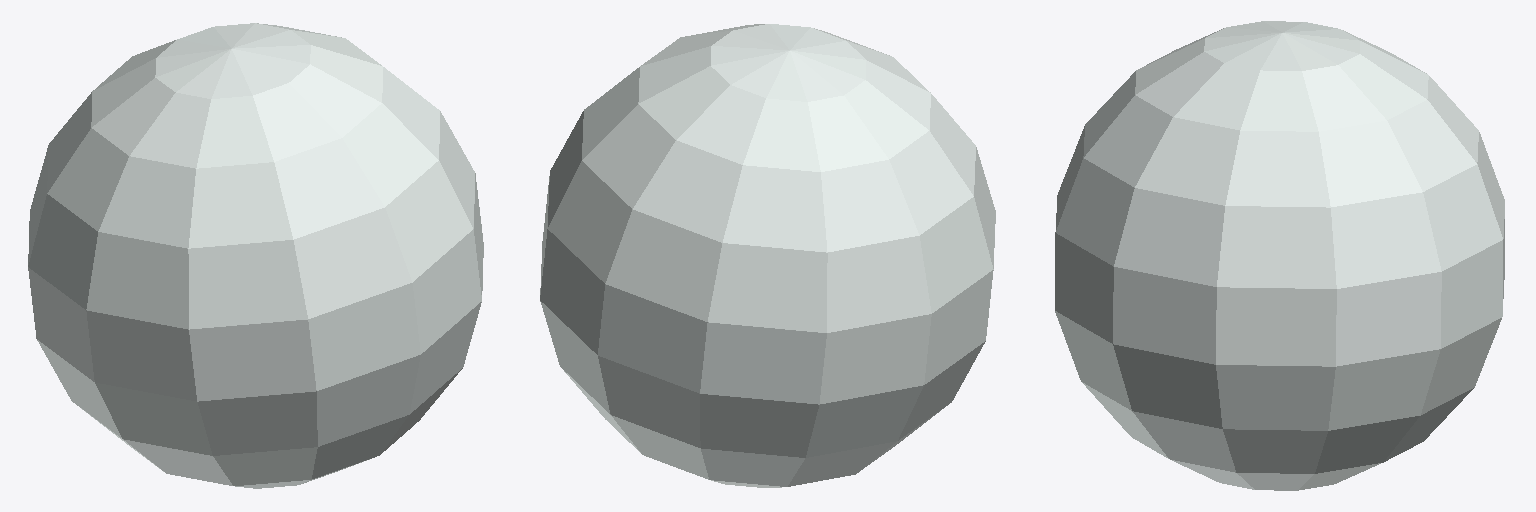
The model's file is Gem Ball.obj.
3 views of the same model, side by side, from view 1: azimuth 30°, elevation 25°; view 2: azimuth 150°, elevation 25°; view 3: azimuth 270°, elevation 25° (orthographic).
Parts seen in each view (by area): view 1: group[number redacted]; view 2: group[number redacted]; view 3: group[number redacted].
Boxes of the visible parts, x1=… form: group[number redacted]: x1=28, y1=23, x2=483, y2=488; group[number redacted]: x1=540, y1=24, x2=995, y2=487; group[number redacted]: x1=1055, y1=21, x2=1504, y2=490.
Bounding box in the file's own units: 0.2829 × 0.29 × 0.2794.